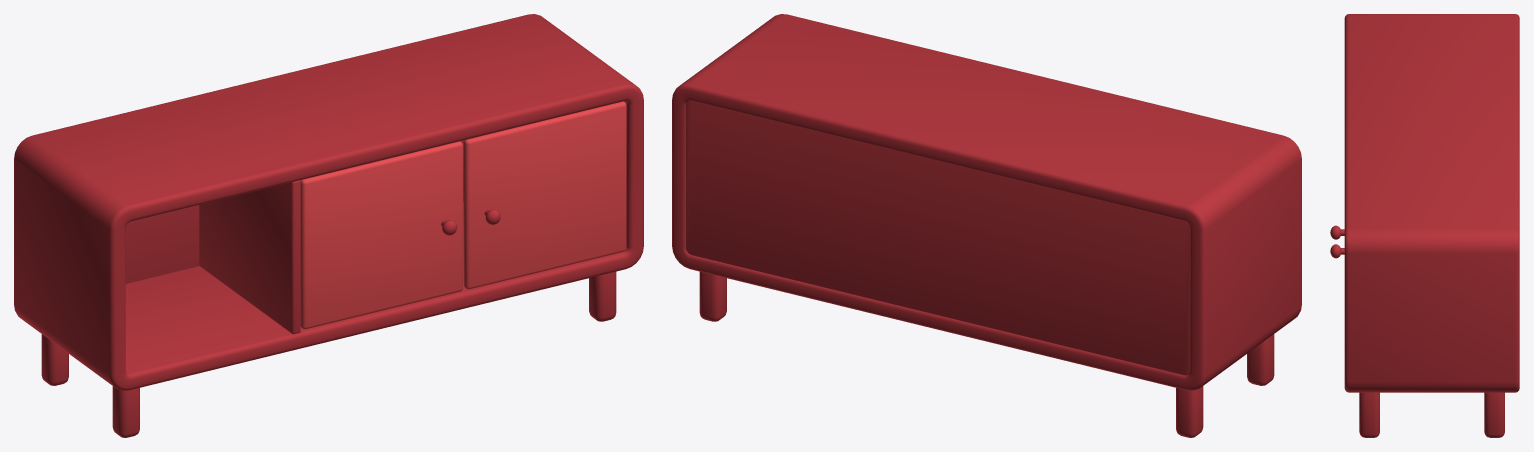
Rendered from rack_pes_2portas_vermelho.glb.
3 renders of one model, left to right at view 1: azimuth 30°, elevation 25°; view 2: azimuth 150°, elevation 25°; view 3: azimuth 270°, elevation 25°, orthographic. The views are drawn at different scales.
Parts seen in each view (by area): view 1: rack_pes_2portas_vermelho, porta_2, porta_1; view 2: rack_pes_2portas_vermelho; view 3: rack_pes_2portas_vermelho.
Boxes of the visible parts, x1,y1,x2,y2 form: rack_pes_2portas_vermelho: [14, 14, 643, 437]; porta_2: [463, 101, 626, 289]; porta_1: [300, 141, 462, 329]; rack_pes_2portas_vermelho: [672, 14, 1301, 437]; rack_pes_2portas_vermelho: [1344, 14, 1519, 437].
Bounding box in the file's own units: 1.3 × 0.56 × 0.4546.
Materials: 1 (1 with a texture image).
